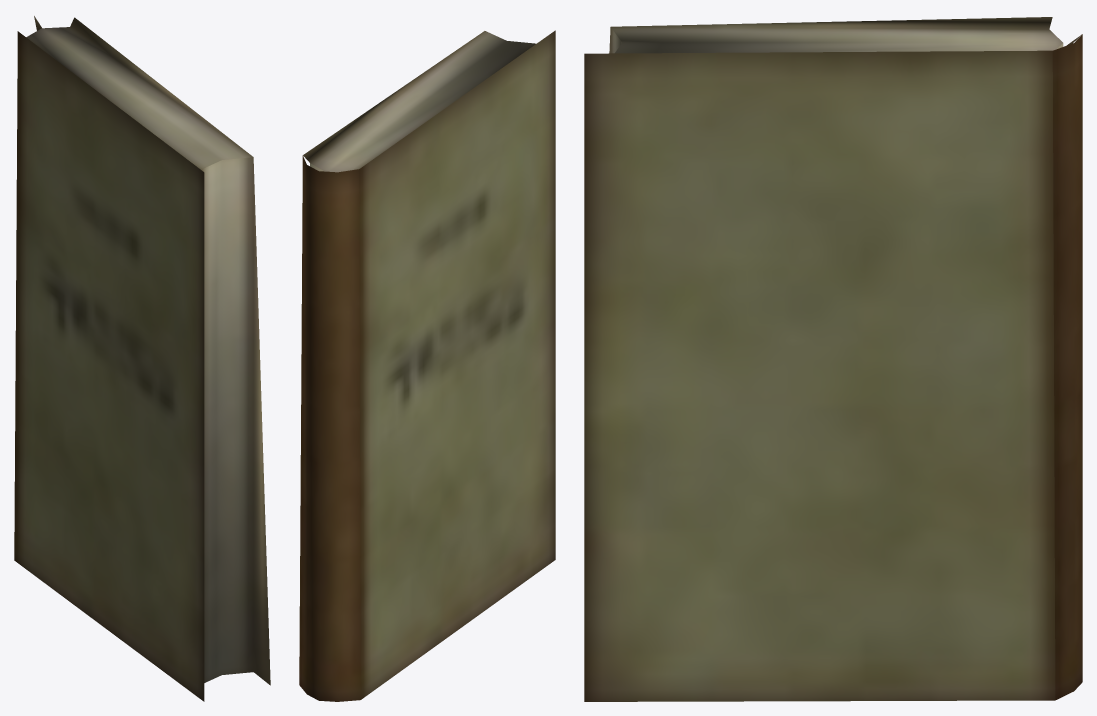
File: noviceBook.glb
3 renders of one model, left to right at view 1: azimuth 30°, elevation 25°; view 2: azimuth 150°, elevation 25°; view 3: azimuth 270°, elevation 25°, orthographic. The views are drawn at different scales.
Parts seen in each view (by area): view 1: noviceBook; view 2: noviceBook; view 3: noviceBook.
Part boxes in pixels (x1,y1,x2,y2): noviceBook: (14,16,270,701); noviceBook: (299,30,555,701); noviceBook: (584,17,1082,701).
Bounding box in the file's own units: 0.0404 × 0.3082 × 0.2148.
Materials: 1 (1 with a texture image).
